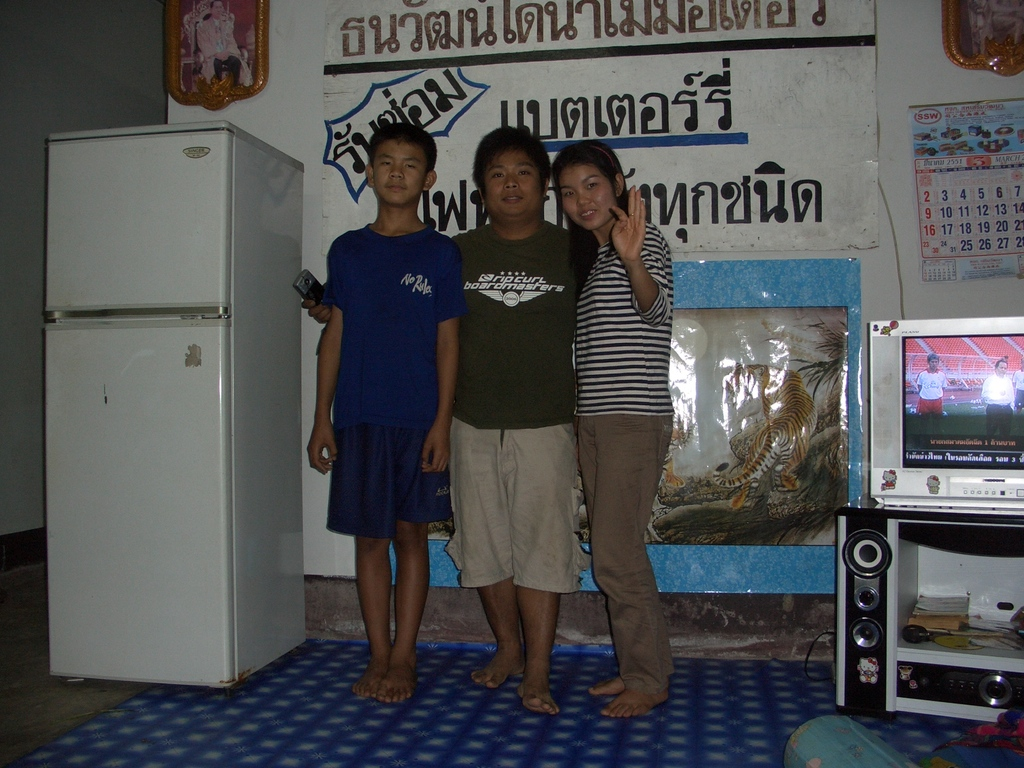Refrigerator: (47, 122, 304, 689)
